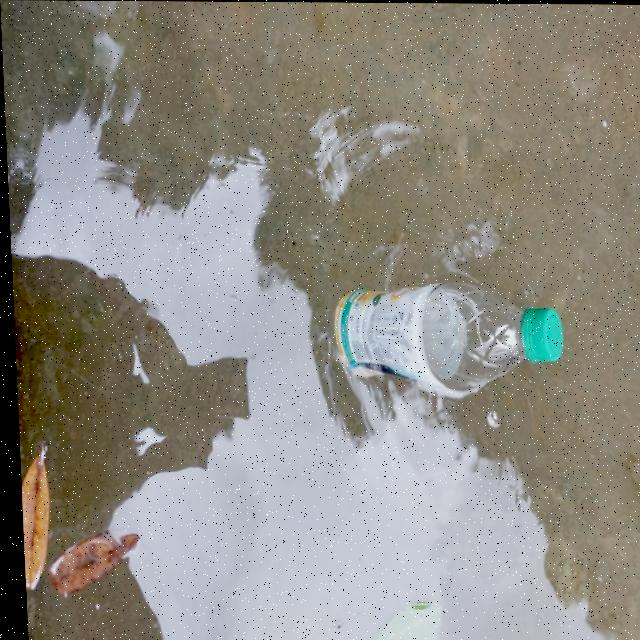leaf: (14, 409, 157, 621), (326, 581, 469, 640)
waterbottle: (315, 286, 568, 399)
